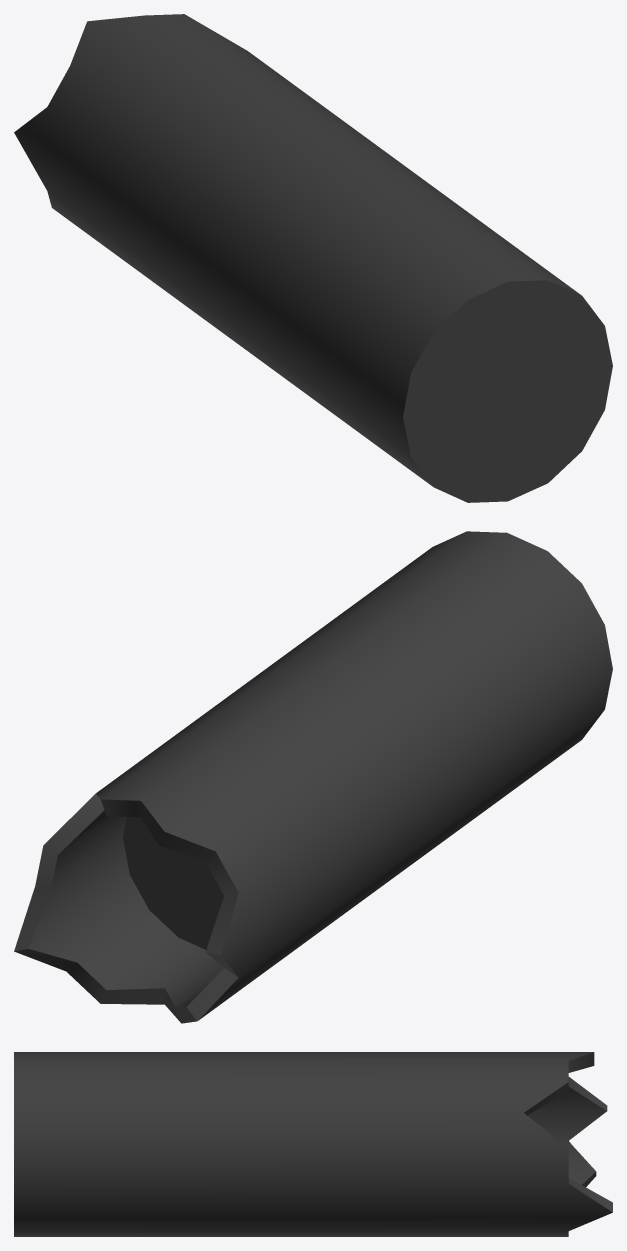
The model's file is BrokenStraightPipe.fbx.
3 renders of one model, top to bottom at view 1: azimuth 30°, elevation 25°; view 2: azimuth 150°, elevation 25°; view 3: azimuth 270°, elevation 25°, orthographic. The views are drawn at different scales.
Parts seen in each view (by area): view 1: BrokenStraightPipe; view 2: BrokenStraightPipe; view 3: BrokenStraightPipe.
Part boxes in pixels (<box>): BrokenStraightPipe: <box>14,14,612,502</box>; BrokenStraightPipe: <box>14,531,612,1023</box>; BrokenStraightPipe: <box>14,1052,612,1236</box>.
Bounding box in the file's own units: 200 × 200 × 648.
